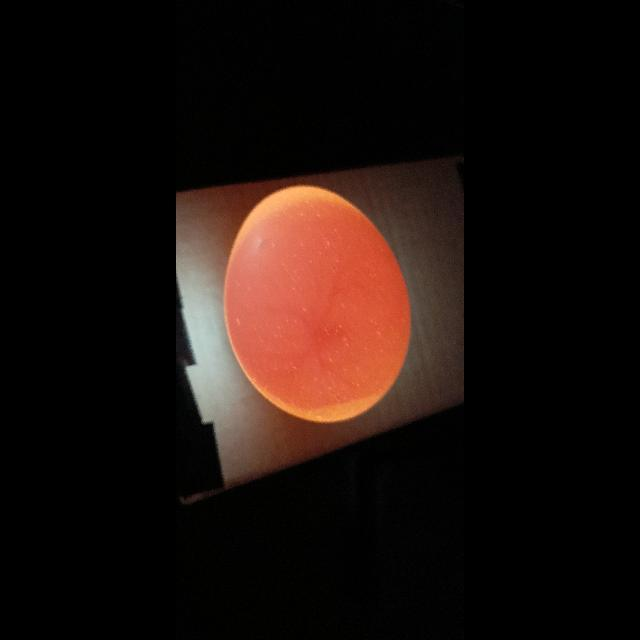Fertile: (222, 192, 406, 422)
